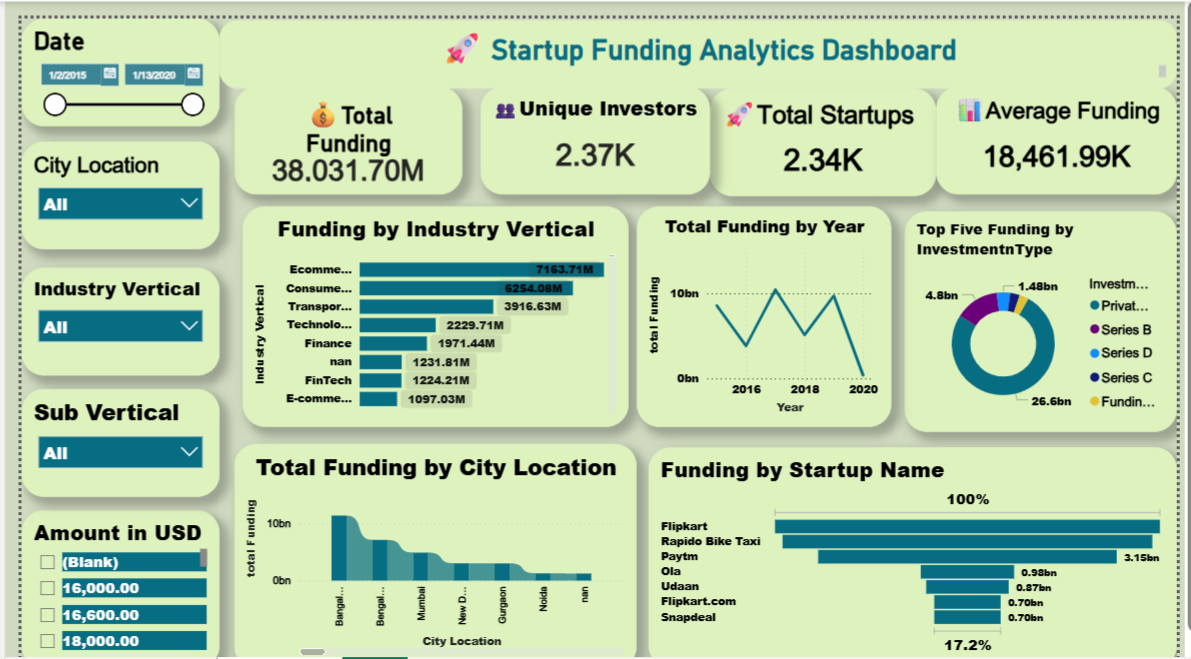

What the dashboard file says about the page in this screenshot:
{"tool":"powerbi","page":{"name":"Page 1","canvas":[1280,720],"ordinal":0},"visuals":[{"type":"card","title":"💰Total Funding","fields":{"Values":["Sum(startup_funding.Amount in USD)"]},"box":[235.9,75.5,252.4,119.8],"z":0},{"type":"card","title":"🚀Total Startups","fields":{"Values":["Count(startup_funding.Startup Name)"]},"box":[762.8,77.4,250.6,119.8],"z":1000},{"type":"card","title":"📊Average Funding","fields":{"Values":["Avg(startup_funding.Amount in USD)"]},"box":[1013.4,75.5,267.2,119.8],"z":2000},{"type":"card","title":"👥Unique Investors","fields":{"Values":["Count(startup_funding.Investors Name)"]},"box":[508.6,75.5,254.3,119.8],"z":3000},{"type":"slicer","title":"Date ","fields":{"Values":["startup_funding.Date"]},"box":[0,0,219.3,119.8],"z":4000},{"type":"slicer","title":"Amount in USD","fields":{"Values":["startup_funding.Amount in USD"]},"box":[0,545.4,219.3,175],"z":5000},{"type":"slicer","title":"City  Location","fields":{"Values":["startup_funding.City  Location"]},"box":[0,136.4,219.3,119.8],"z":6000},{"type":"slicer","title":"Industry Vertical","fields":{"Values":["startup_funding.Industry Vertical"]},"box":[0,276.4,219.3,119.8],"z":7000},{"type":"slicer","title":"Sub Vertical","fields":{"Values":["startup_funding.SubVertical"]},"box":[0,410.9,219.3,119.8],"z":8000},{"type":"clusteredBarChart","title":" Funding by Industry Vertical","fields":{"Category":["startup_funding.Industry Vertical"],"Y":["startup_funding.total Funding"]},"box":[245.1,208.2,427.5,245.1],"z":9000},{"type":"ribbonChart","title":"Total Funding by City  Location","fields":{"Category":["startup_funding.City  Location"],"Y":["startup_funding.total Funding"]},"box":[235.9,471.7,445.9,248.8],"z":10000},{"type":"pieChart","title":"Top Five Funding by InvestmentnType","fields":{"Category":["startup_funding.InvestmentnType"],"Y":["startup_funding.total Funding"]},"box":[978.4,213.7,302.2,245.1],"z":11000},{"type":"funnel","title":"Funding by Startup Name","fields":{"Y":["startup_funding.total Funding"],"Category":["startup_funding.Startup Name"]},"box":[694.7,475.4,586,245.1],"z":12000},{"type":"lineChart","title":"Total Funding by Year","fields":{"Category":["startup_funding.Date.Variation.Date Hierarchy.Year","startup_funding.Date.Variation.Date Hierarchy.Quarter","startup_funding.Date.Variation.Date Hierarchy.Month","startup_funding.Date.Variation.Date Hierarchy.Day"],"Y":["startup_funding.total Funding"]},"box":[681.8,208.2,281.9,245.1],"z":13000},{"type":"textbox","title":"🚀 Startup Funding Analytics Dashboard","box":[219.3,1.8,1061.4,75.5],"z":14000}]}

Visuals, with their boxes in screenshot pixels (x1, y1, x2, y2), scaled from the page's 1280x720 canvas onto the 1191x659 screenshot:
"💰Total Funding" card: l=219, t=69, r=454, b=179
"🚀Total Startups" card: l=710, t=71, r=943, b=180
"📊Average Funding" card: l=943, t=69, r=1190, b=179
"👥Unique Investors" card: l=473, t=69, r=710, b=179
"Date " slicer: l=0, t=0, r=204, b=110
"Amount in USD" slicer: l=0, t=499, r=204, b=658
"City  Location" slicer: l=0, t=125, r=204, b=234
"Industry Vertical" slicer: l=0, t=253, r=204, b=363
"Sub Vertical" slicer: l=0, t=376, r=204, b=486
" Funding by Industry Vertical" clusteredBarChart: l=228, t=191, r=626, b=415
"Total Funding by City  Location" ribbonChart: l=219, t=432, r=634, b=658
"Top Five Funding by InvestmentnType" pieChart: l=910, t=196, r=1190, b=420
"Funding by Startup Name" funnel: l=646, t=435, r=1190, b=658
"Total Funding by Year" lineChart: l=634, t=191, r=897, b=415
"🚀 Startup Funding Analytics Dashboard" textbox: l=204, t=2, r=1190, b=71
